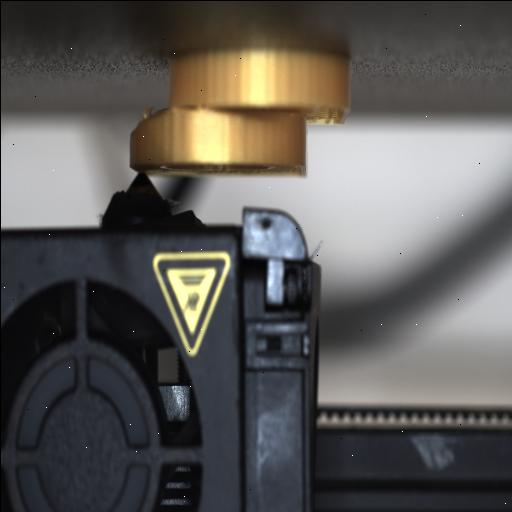layer_shift: (133, 100, 351, 134)
